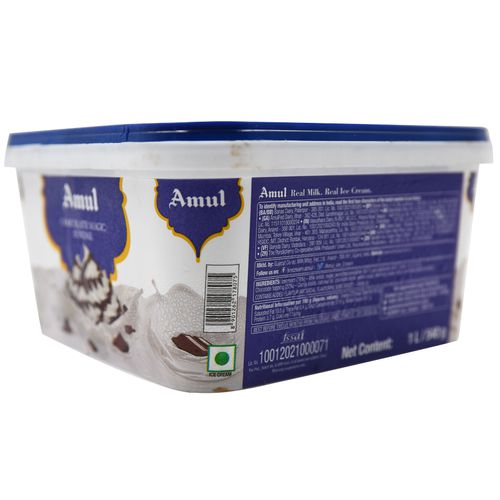Amul: (155, 186, 232, 213), (55, 182, 109, 215), (256, 186, 292, 202)
